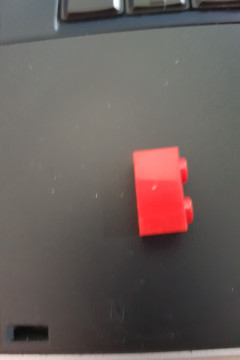1x2 red: (129, 145, 197, 240)
